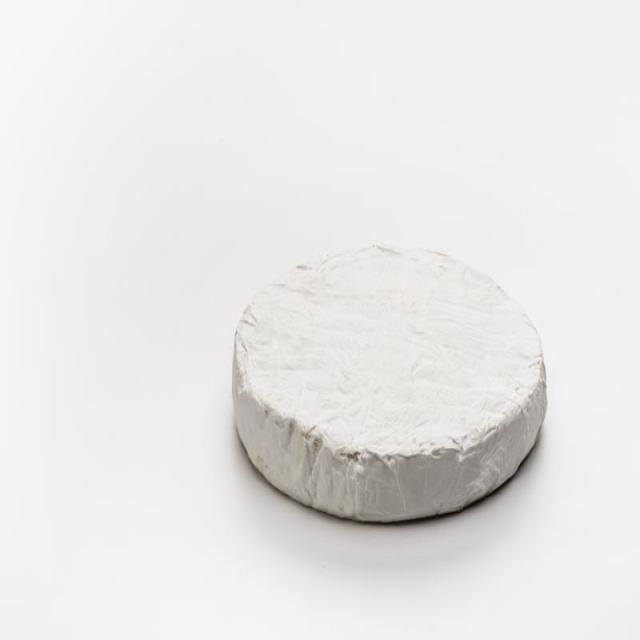Cheese: (227, 230, 558, 535)
